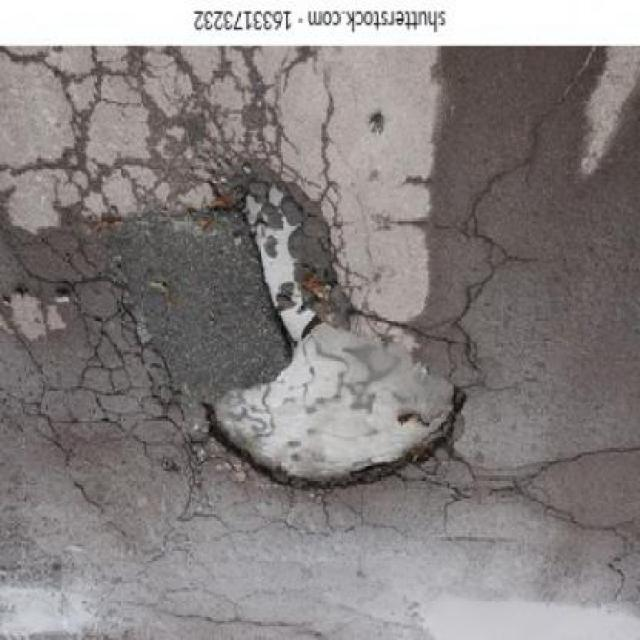Pothole: (200, 179, 463, 496)
